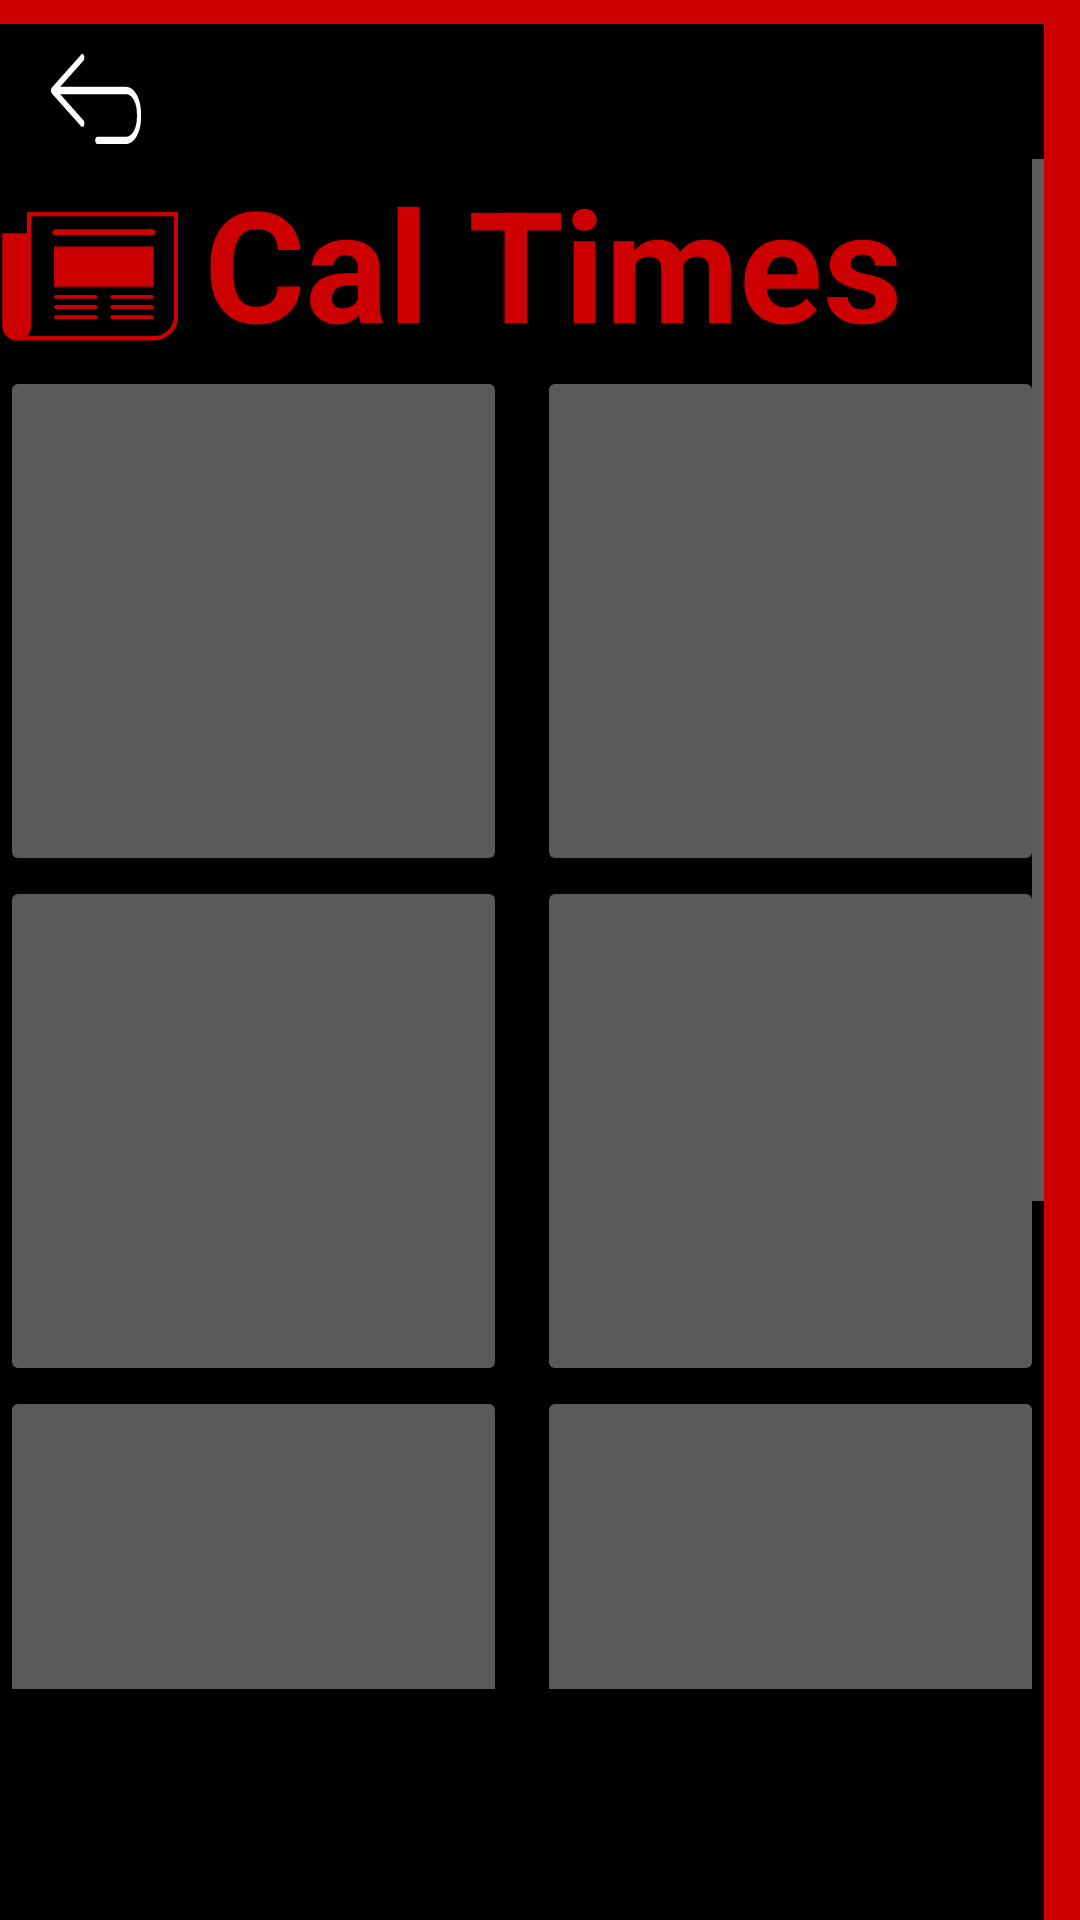

Icon click points for this 1080w x 1920h phone screenshot, format (x=x, y=y):
back: (x=96, y=99)
paper: (x=90, y=276)
